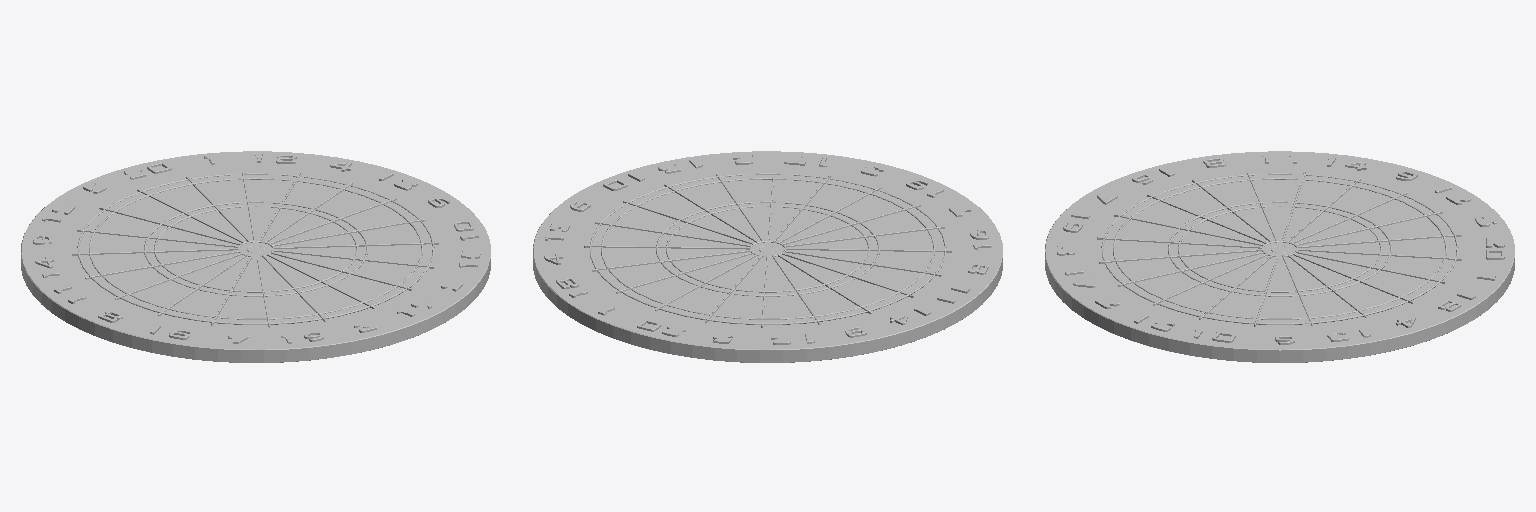
Rendered from dart_board.obj.
3 renders of one model, left to right at view 1: azimuth 30°, elevation 25°; view 2: azimuth 150°, elevation 25°; view 3: azimuth 270°, elevation 25°, orthographic.
Visible parts, largest first — view 1: Selection,2 Cylinder, Selection,1 Solid,3, Selection,1 Solid,2, Selection Cube,31, Selection Cube,21, Selection Cube,33, Selection Cube,30, Selection Cube,22, Selection Cube,29, Selection Cube,32, Selection Cube,34, Selection Cube,23 (+21 smaller); view 2: Selection,2 Cylinder, Selection,1 Solid,3, Selection,1 Solid,2, Selection Cube,39, Selection Cube,29, Selection Cube,28, Selection Cube,38, Selection Cube,37, Selection Cube,20, Selection Cube,27, Selection Cube,36, Selection Cube,30 (+21 smaller); view 3: Selection,2 Cylinder, Selection,1 Solid,3, Selection,1 Solid,2, Selection Cube,26, Selection Cube,24, Selection Cube,36, Selection Cube,34, Selection Cube,35, Selection Cube,25, Selection Cube,23, Selection Cube,27, Selection Cube,28 (+21 smaller).
Boxes of the visible parts, x1,y1,x2,y2 form: Selection,2 Cylinder: [21, 151, 490, 362]; Selection,1 Solid,3: [72, 171, 438, 327]; Selection,1 Solid,2: [89, 178, 422, 319]; Selection Cube,31: [265, 293, 316, 317]; Selection Cube,21: [196, 180, 246, 204]; Selection Cube,33: [171, 290, 227, 315]; Selection Cube,30: [300, 286, 360, 312]; Selection Cube,22: [245, 180, 293, 202]; Selection Cube,29: [331, 275, 394, 301]; Selection Cube,32: [218, 296, 266, 317]; Selection Cube,34: [131, 280, 194, 307]; Selection Cube,23: [284, 182, 340, 207]; Selection,2 Cylinder: [533, 151, 1002, 362]; Selection,1 Solid,3: [584, 171, 951, 327]; Selection,1 Solid,2: [601, 178, 934, 319]; Selection Cube,39: [713, 294, 762, 317]; Selection Cube,29: [773, 180, 821, 203]; Selection Cube,28: [724, 180, 771, 202]; Selection Cube,38: [764, 295, 811, 317]; Selection Cube,37: [801, 289, 858, 315]; Selection Cube,20: [668, 287, 727, 313]; Selection Cube,27: [678, 183, 734, 208]; Selection Cube,36: [834, 279, 896, 305]; Selection Cube,30: [808, 184, 866, 210]; Selection,2 Cylinder: [1045, 151, 1514, 362]; Selection,1 Solid,3: [1097, 171, 1461, 326]; Selection,1 Solid,2: [1113, 178, 1446, 319]; Selection Cube,26: [1210, 292, 1263, 317]; Selection Cube,24: [1301, 292, 1355, 316]; Selection Cube,36: [1296, 180, 1349, 205]; Selection Cube,34: [1204, 181, 1258, 206]; Selection Cube,35: [1252, 180, 1300, 201]; Selection Cube,25: [1259, 296, 1307, 317]; Selection Cube,23: [1336, 283, 1396, 309]; Selection Cube,27: [1167, 284, 1228, 310]; Selection Cube,28: [1136, 272, 1199, 298].
Size of the model in its own units: 9.9 by 0.3684 by 9.9.